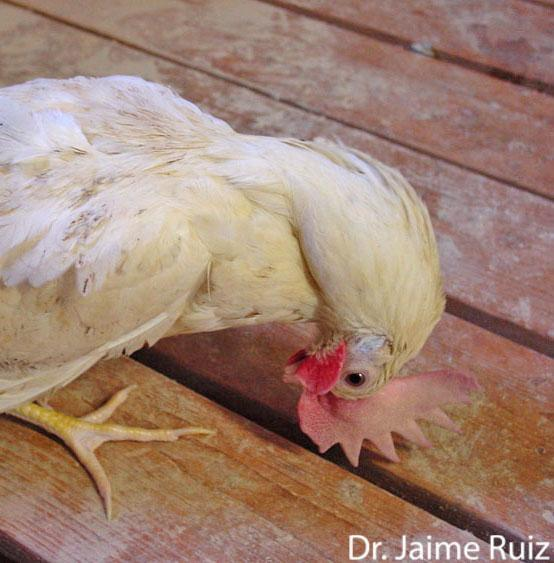AbNormal: (0, 52, 459, 509)
